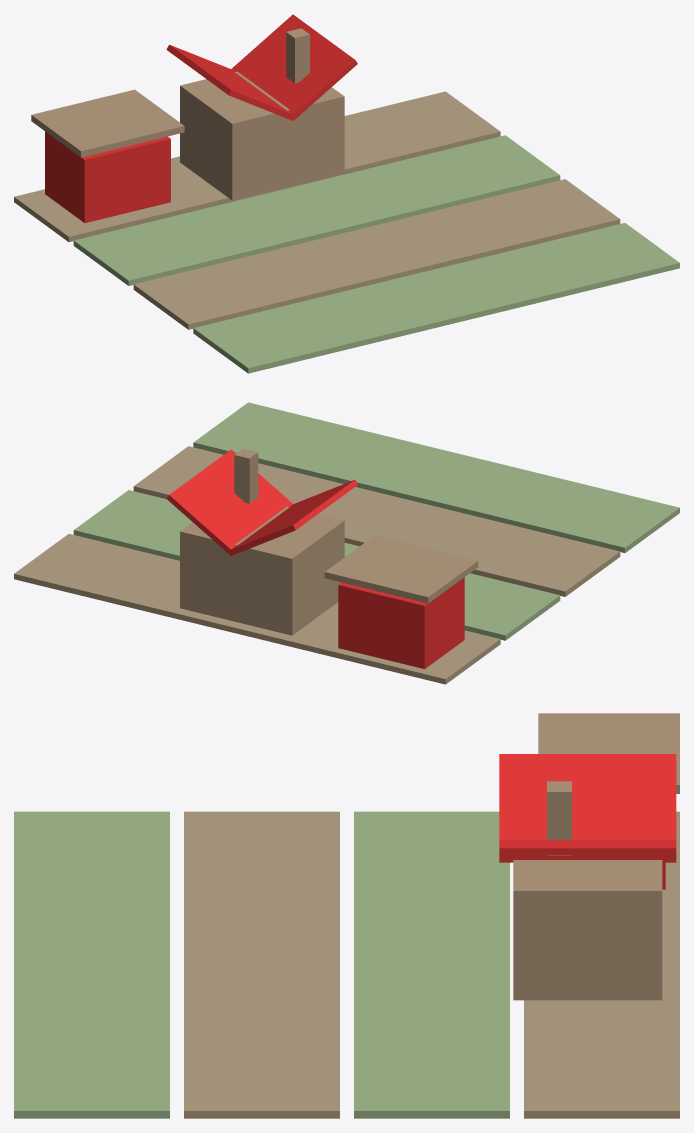
The model's file is setpiece-farm.glb.
3 renders of one model, top to bottom at view 1: azimuth 30°, elevation 25°; view 2: azimuth 150°, elevation 25°; view 3: azimuth 270°, elevation 25°, orthographic. The views are drawn at different scales.
Visible parts, largest first — view 1: setpiece-farm; view 2: setpiece-farm; view 3: setpiece-farm.
Part boxes in pixels (box(x1,y1,x2,y2)): setpiece-farm: box(14, 14, 679, 373); setpiece-farm: box(14, 402, 679, 684); setpiece-farm: box(14, 713, 679, 1118).
Bounding box in the file's own units: 10 × 3.12 × 9.4.
